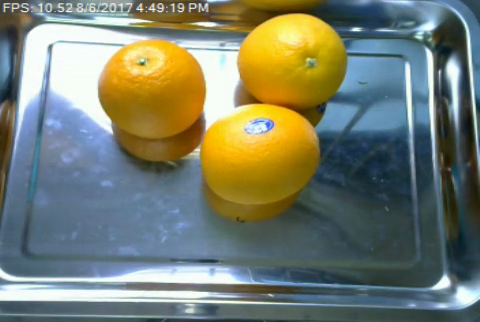Orange: (202, 104, 321, 204), (97, 39, 207, 138), (237, 12, 349, 107)
